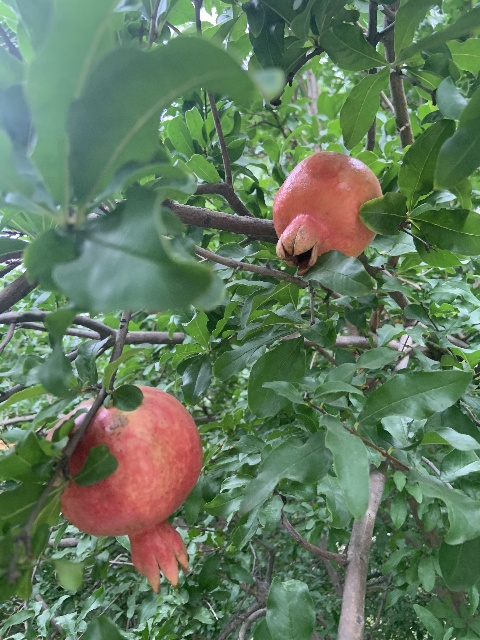ripe: (45, 384, 202, 593), (272, 151, 382, 275)
